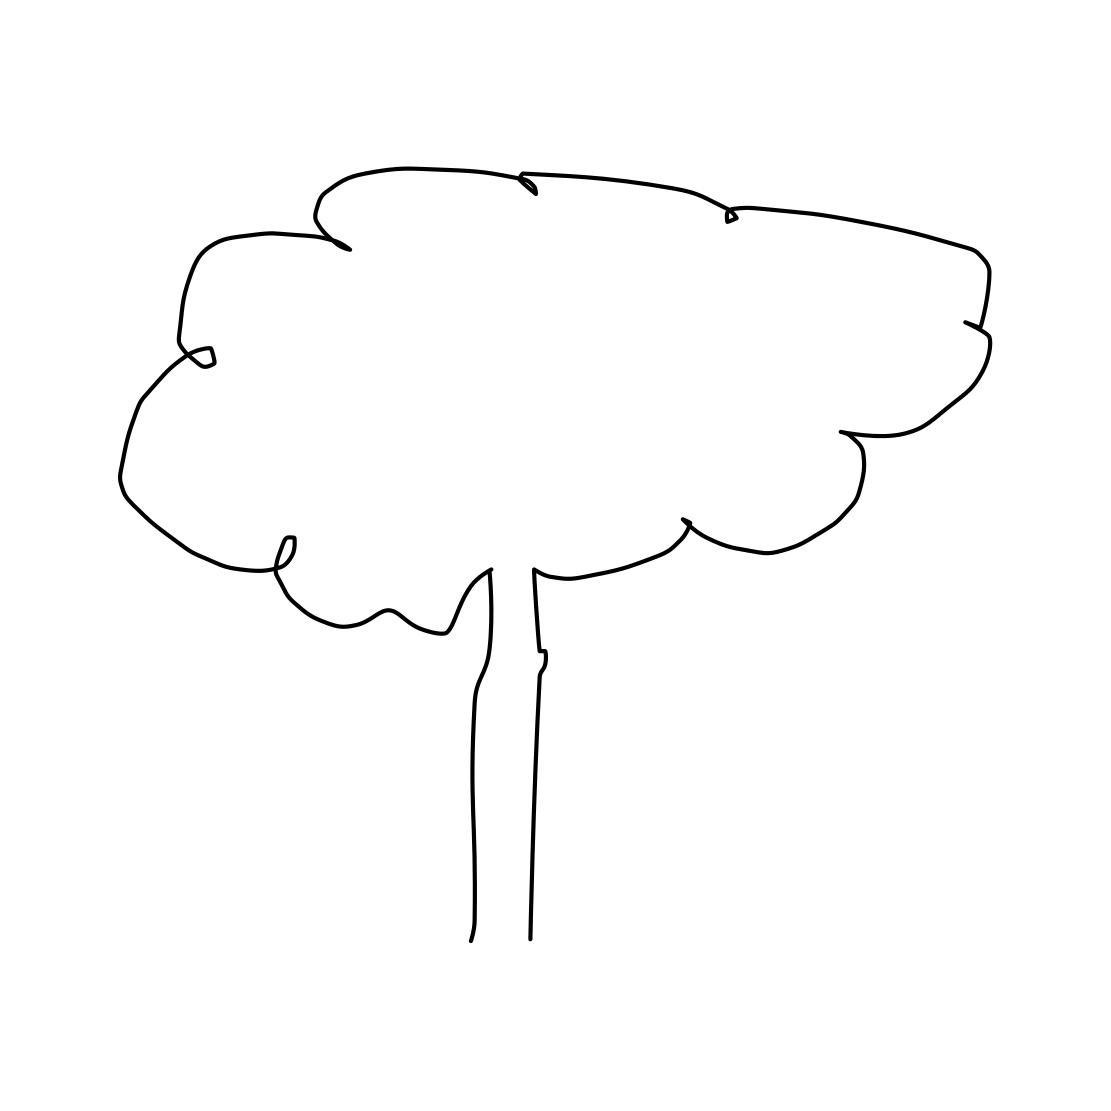Tree: (99, 109, 1001, 948)
